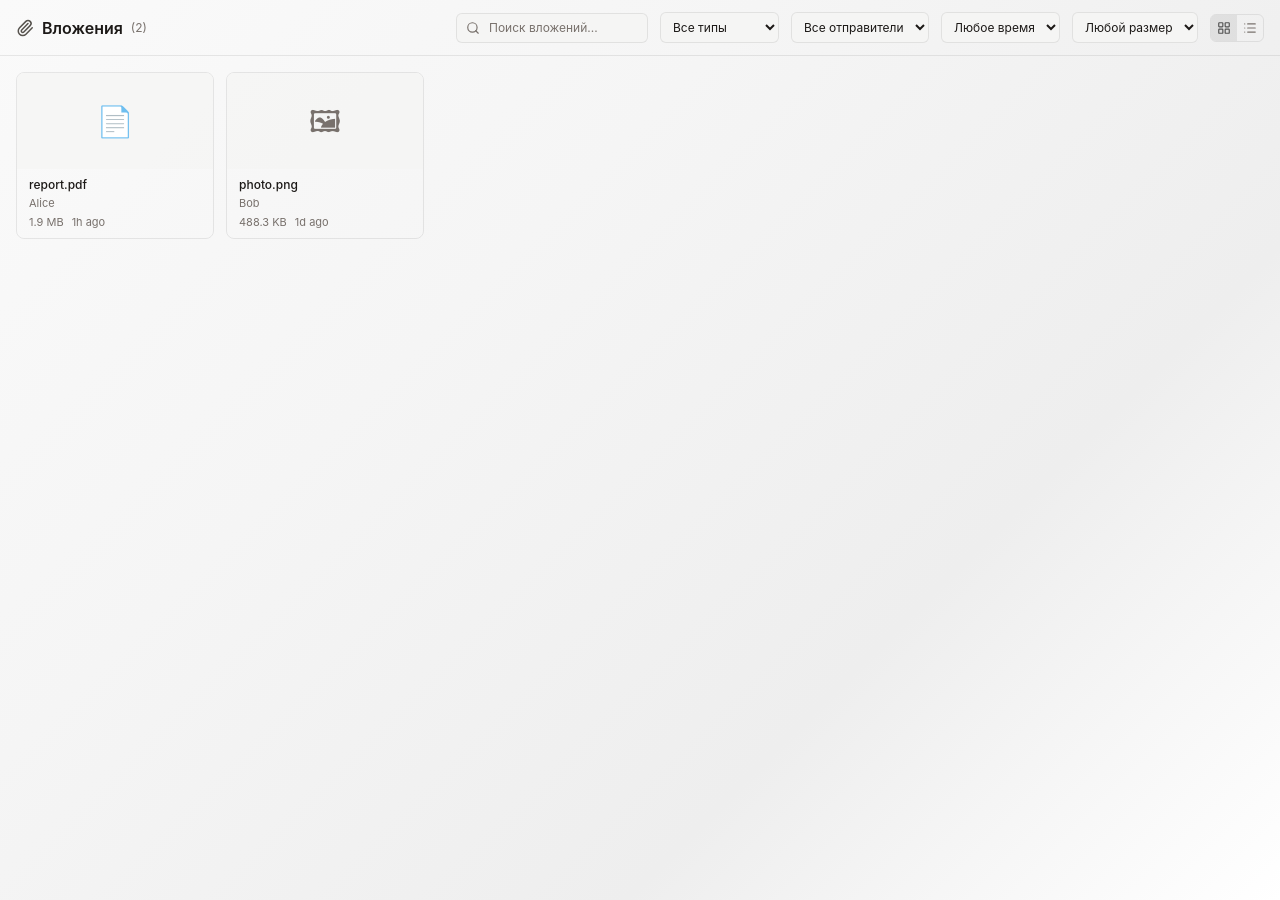
Test case: AttachmentLibrary › filters by type
Check: the text "report.pdf" is shown, box [29,177,87,192]
Select "Изображения" in the dropdown showing "Все типы": coordinates (720, 28) [660,12,779,43]
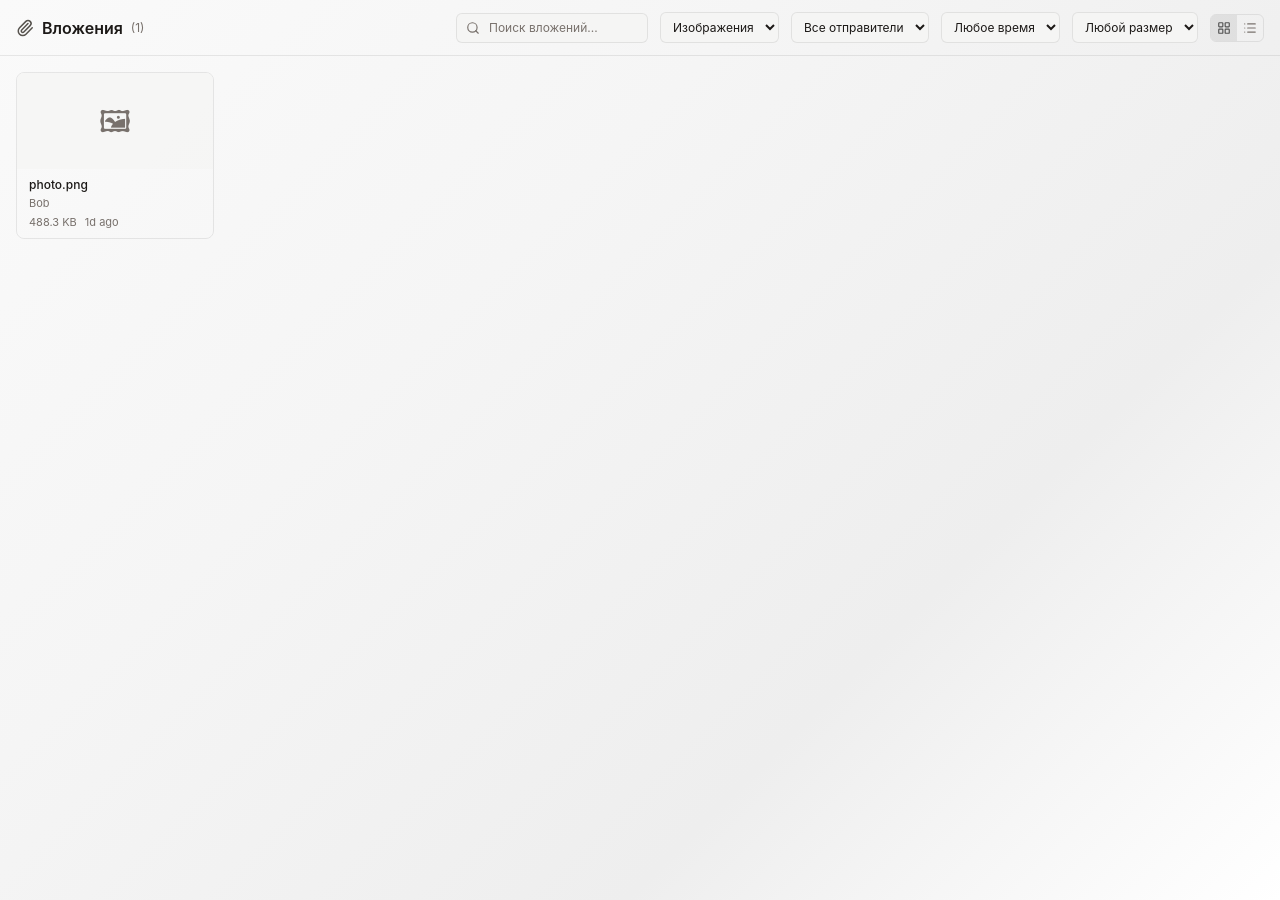
Check: the text "photo.png" is shown, box [29,177,88,192]
Check: the text "report.pdf" is gone
